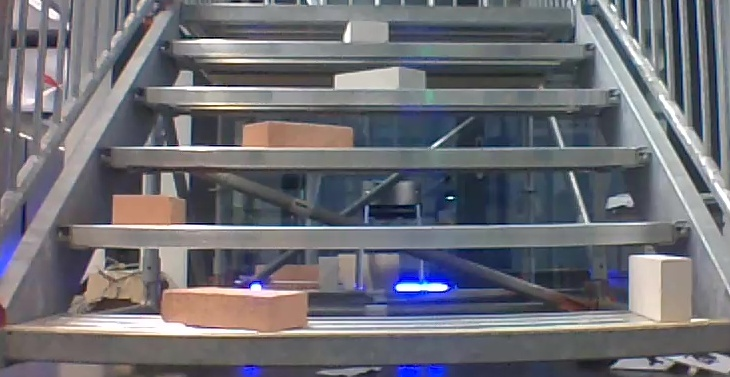brick: (162, 286, 307, 331), (628, 255, 692, 322), (242, 122, 351, 146), (113, 195, 185, 224), (335, 68, 424, 88), (343, 21, 388, 41)
edge: (1, 321, 730, 364), (59, 221, 691, 247), (101, 146, 653, 167), (135, 88, 620, 105), (162, 41, 595, 58), (183, 6, 575, 23)
